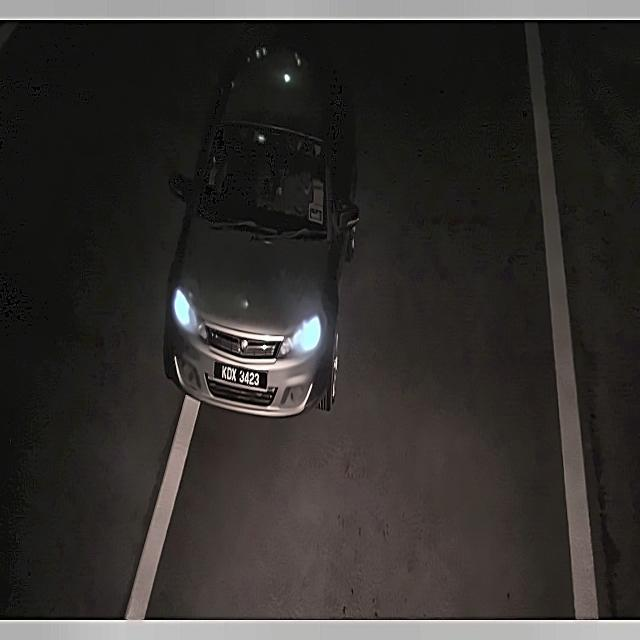car: (209, 353, 269, 392)
